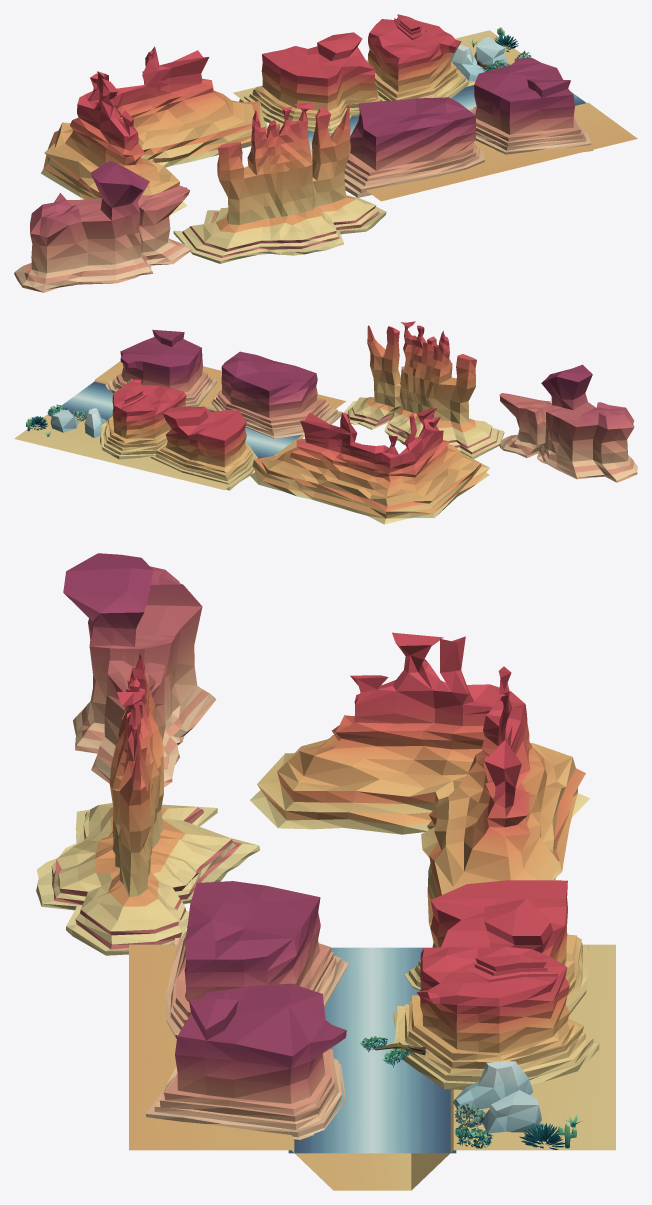
File: CanionProps.fbx
The picture shows the model from 3 angles, top to bottom: view 1: azimuth 30°, elevation 25°; view 2: azimuth 150°, elevation 25°; view 3: azimuth 270°, elevation 25°; orthographic projection. The views are drawn at different scales.
Parts seen in each view (by area): view 1: Canion1, Canion3, Canion2, CanionFlat3, CanionFlat2, CanionFlat4, CanionFlat1, CanionGround, CanionRock1, River, CanionRock2; view 2: Canion3, Canion1, Canion2, CanionFlat3, CanionFlat4, CanionFlat1, CanionFlat2, CanionGround, River, CanionRock2, CanionRock1; view 3: Canion3, Canion1, CanionGround, CanionFlat2, CanionFlat1, Canion2, River, CanionFlat3, CanionFlat4, CanionRock1, CanionRock2.
Boxes of the visible parts, <box> form: Canion1: <box>173,103,386,263</box>; Canion3: <box>41,46,267,214</box>; Canion2: <box>14,160,191,292</box>; CanionFlat3: <box>344,97,485,197</box>; CanionFlat2: <box>470,58,593,154</box>; CanionFlat4: <box>239,32,380,133</box>; CanionFlat1: <box>367,14,468,101</box>; CanionGround: <box>233,30,637,201</box>; CanionRock1: <box>451,45,485,81</box>; River: <box>307,85,585,152</box>; CanionRock2: <box>474,36,507,64</box>; Canion3: <box>250,408,489,524</box>; Canion1: <box>343,321,504,458</box>; Canion2: <box>499,364,637,482</box>; CanionFlat3: <box>211,351,342,438</box>; CanionFlat4: <box>150,406,257,490</box>; CanionFlat1: <box>100,379,186,459</box>; CanionFlat2: <box>105,329,216,406</box>; CanionGround: <box>14,361,345,490</box>; River: <box>56,381,302,458</box>; CanionRock2: <box>50,409,78,432</box>; CanionRock1: <box>84,408,106,437</box>; Canion3: <box>250,632,589,927</box>; Canion1: <box>36,652,260,955</box>; CanionGround: <box>129,944,615,1190</box>; CanionFlat2: <box>146,983,346,1140</box>; CanionFlat1: <box>393,947,599,1089</box>; Canion2: <box>63,553,216,787</box>; River: <box>288,947,456,1153</box>; CanionFlat3: <box>165,881,349,1038</box>; CanionFlat4: <box>404,880,588,1015</box>; CanionRock1: <box>453,1061,532,1110</box>; CanionRock2: <box>482,1090,541,1133</box>.
Size of the model in its own units: 62.77 by 13.86 by 31.01.
